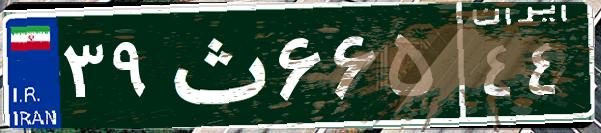3: (57, 26, 110, 107)
4: (475, 38, 525, 113), (525, 38, 570, 115)
5: (385, 28, 445, 110)
6: (273, 28, 330, 110), (330, 28, 385, 110)
9: (110, 28, 158, 105)
ث: (158, 15, 273, 115)
